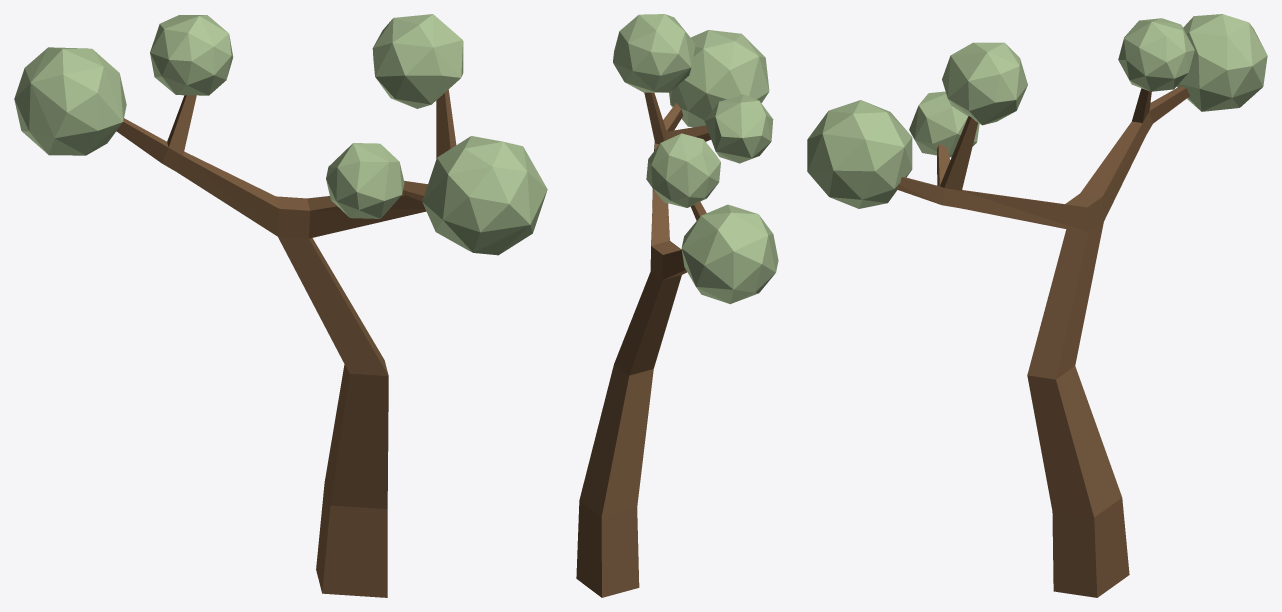
3 views of the same model, side by side, from view 1: azimuth 30°, elevation 25°; view 2: azimuth 150°, elevation 25°; view 3: azimuth 270°, elevation 25° (orthographic). The views are drawn at different scales.
Parts seen in each view (by area): view 1: Null_14_PLA; view 2: Null_14_PLA; view 3: Null_14_PLA.
Part boxes in pixels (x1=…): Null_14_PLA: x1=14, y1=14, x2=547, y2=597; Null_14_PLA: x1=576, y1=14, x2=778, y2=597; Null_14_PLA: x1=807, y1=14, x2=1267, y2=597.
Size of the model in its own units: 281 by 524 by 402.
